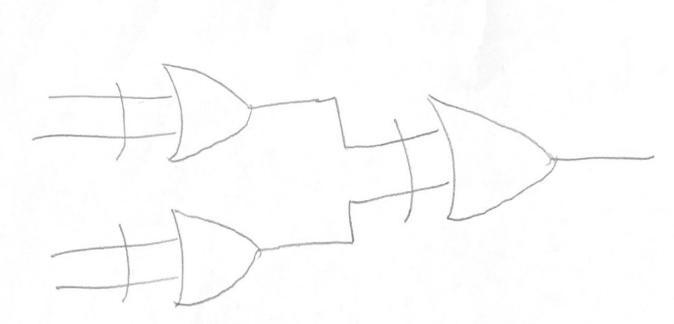XOR: (381, 89, 564, 232), (105, 52, 274, 171), (105, 203, 278, 311)
